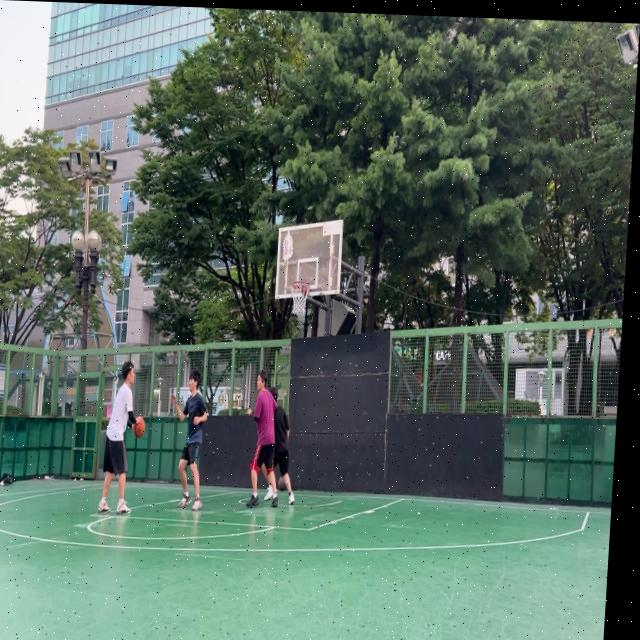basketball: (133, 416, 146, 438)
hoop: (289, 281, 310, 316)
